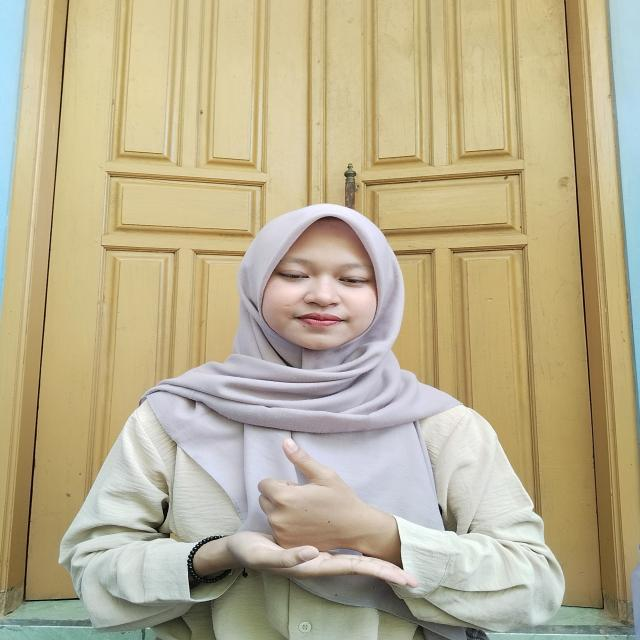cantik: (207, 433, 417, 605)
